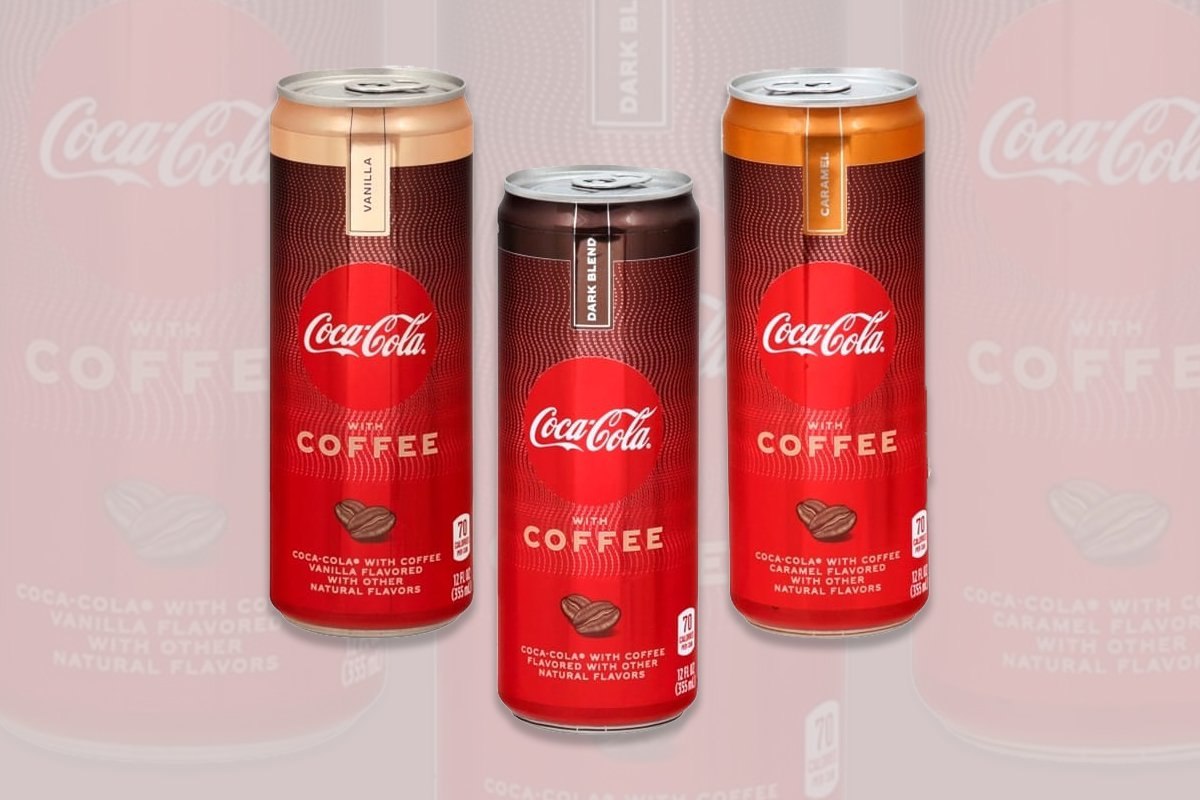Coca-Cola: (709, 62, 965, 641), (487, 155, 726, 756), (262, 75, 484, 647)
